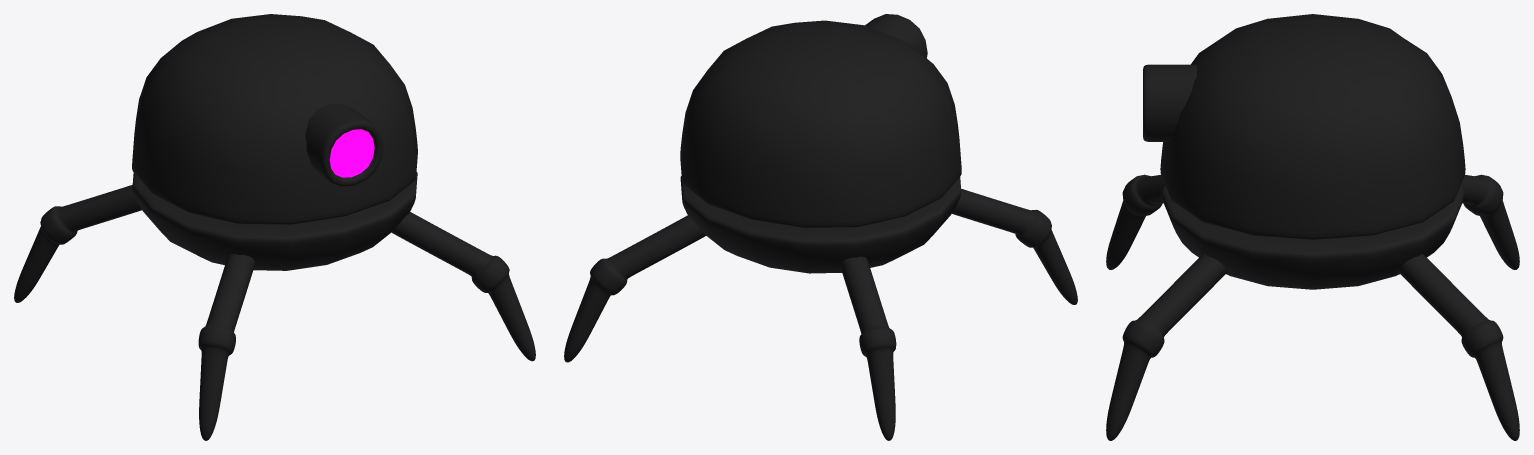
File: bug.fbx
3 renders of one model, left to right at view 1: azimuth 30°, elevation 25°; view 2: azimuth 150°, elevation 25°; view 3: azimuth 270°, elevation 25°, orthographic. The views are drawn at different scales.
Parts seen in each view (by area): view 1: bug; view 2: bug; view 3: bug.
Part boxes in pixels (<box>): bug: <box>14,14,535,440</box>; bug: <box>564,14,1077,440</box>; bug: <box>1106,14,1519,440</box>.
Bounding box in the file's own units: 248 × 210 × 248.
